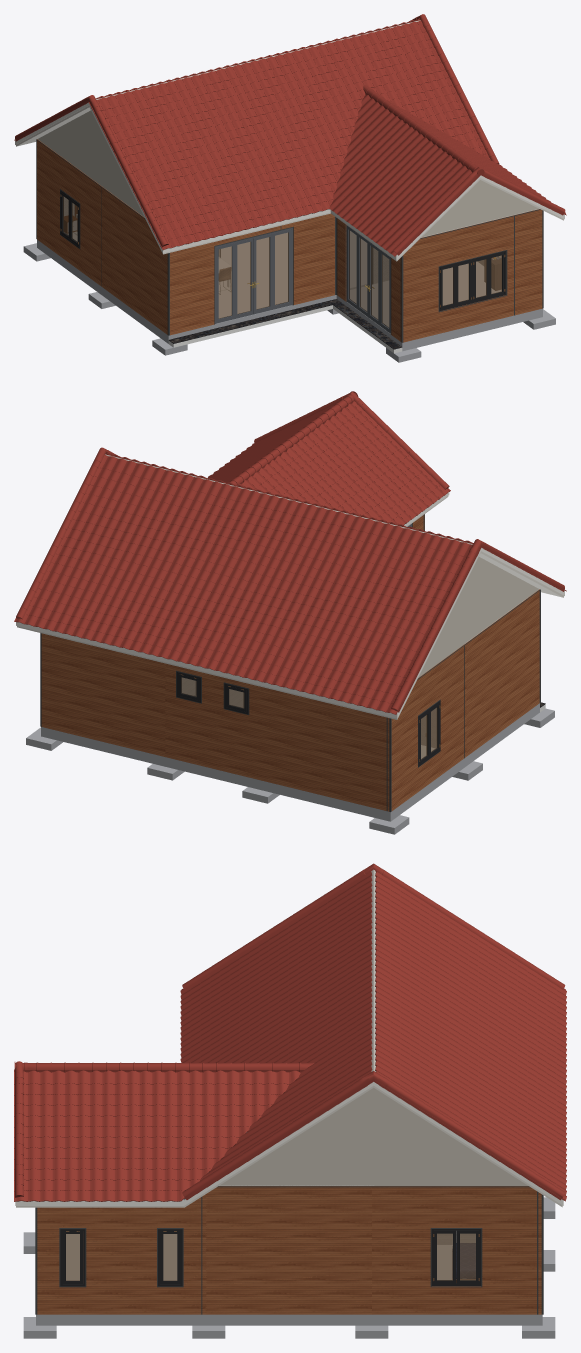
The picture shows the model from 3 angles, top to bottom: view 1: azimuth 30°, elevation 25°; view 2: azimuth 150°, elevation 25°; view 3: azimuth 270°, elevation 25°; orthographic projection. The views are drawn at different scales.
Parts seen in each view (by area): view 1: Ultra Panel 16 mm PN7S-03 4000x380 (×20), Diềm mái · diềm rìa · tường hồi, glass (×9), Lớp lát nền (×2), Ultra Panel 16 mm PN7S-03 1640x380 (lẻ) (×7), Ultra Panel 16 mm PN7S-03 1544x380 (lẻ) (×7), Bê tông (×4), Component#10, sash (×3), frame; view 2: Ultra Panel 16 mm PN7S-03 4000x380 (×22), Ultra Panel 16 mm PN7S-03 3924x380 (lẻ) (×8), Diềm mái · diềm rìa · tường hồi, Ultra Panel 16 mm PN7S-03 3000x380 (lẻ) (×5), Bê tông (×5); view 3: Ultra Panel 16 mm PN7S-03 3992x380 (lẻ) (×9), Ultra Panel 16 mm PN7S-03 4000x380 (×9), Diềm mái · diềm rìa · tường hồi, Bê tông (×4), Ultra Panel 16 mm PN7S-03 1750x380 (lẻ) (×4), Ultra Panel 16 mm PN7S-03 1442x380 (lẻ) (×4), Ultra Panel 16 mm PN7S-03 1358x380 (lẻ) (×4), glass (×4), Lớp lát nền, Mặt mái (tham chiếu lợp ngói), 6df78be5-4574-43a5-bf21-98fa25290fa9:245.
Part boxes in pixels (<box>): Ultra Panel 16 mm PN7S-03 4000x380 (×20): <box>37,139,513,342</box>; Diềm mái · diềm rìa · tường hồi: <box>15,102,564,261</box>; glass (×9): <box>218,230,453,327</box>; Lớp lát nền (×2): <box>219,231,501,326</box>; Ultra Panel 16 mm PN7S-03 1640x380 (lẻ) (×7): <box>170,247,214,335</box>; Ultra Panel 16 mm PN7S-03 1544x380 (lẻ) (×7): <box>293,217,334,304</box>; Bê tông (×4): <box>40,242,542,351</box>; Component#10: <box>168,299,402,353</box>; sash (×3): <box>235,229,291,318</box>; frame: <box>439,251,506,311</box>; Ultra Panel 16 mm PN7S-03 4000x380 (×22): <box>260,589,539,810</box>; Ultra Panel 16 mm PN7S-03 3924x380 (lẻ) (×8): <box>41,633,165,756</box>; Diềm mái · diềm rìa · tường hồi: <box>16,492,564,719</box>; Ultra Panel 16 mm PN7S-03 3000x380 (lẻ) (×5): <box>165,694,260,779</box>; Bê tông (×5): <box>41,703,539,821</box>; Ultra Panel 16 mm PN7S-03 3992x380 (lẻ) (×9): <box>206,1186,371,1314</box>; Ultra Panel 16 mm PN7S-03 4000x380 (×9): <box>37,1186,536,1314</box>; Diềm mái · diềm rìa · tường hồi: <box>15,1082,563,1207</box>; Bê tông (×4): <box>44,1314,555,1338</box>; Ultra Panel 16 mm PN7S-03 1750x380 (lẻ) (×4): <box>86,1229,156,1286</box>; Ultra Panel 16 mm PN7S-03 1442x380 (lẻ) (×4): <box>371,1229,430,1286</box>; Ultra Panel 16 mm PN7S-03 1358x380 (lẻ) (×4): <box>482,1229,536,1286</box>; glass (×4): <box>66,1233,475,1280</box>; Lớp lát nền: <box>66,1234,176,1280</box>; Mặt mái (tham chiếu lợp ngói): <box>183,869,375,1200</box>; 6df78be5-4574-43a5-bf21-98fa25290fa9:245: <box>452,1243,475,1278</box>.
Size of what is drawn, in the model's own units: 12.14 by 7.16 by 13.34.
95 materials, 24 textured.
